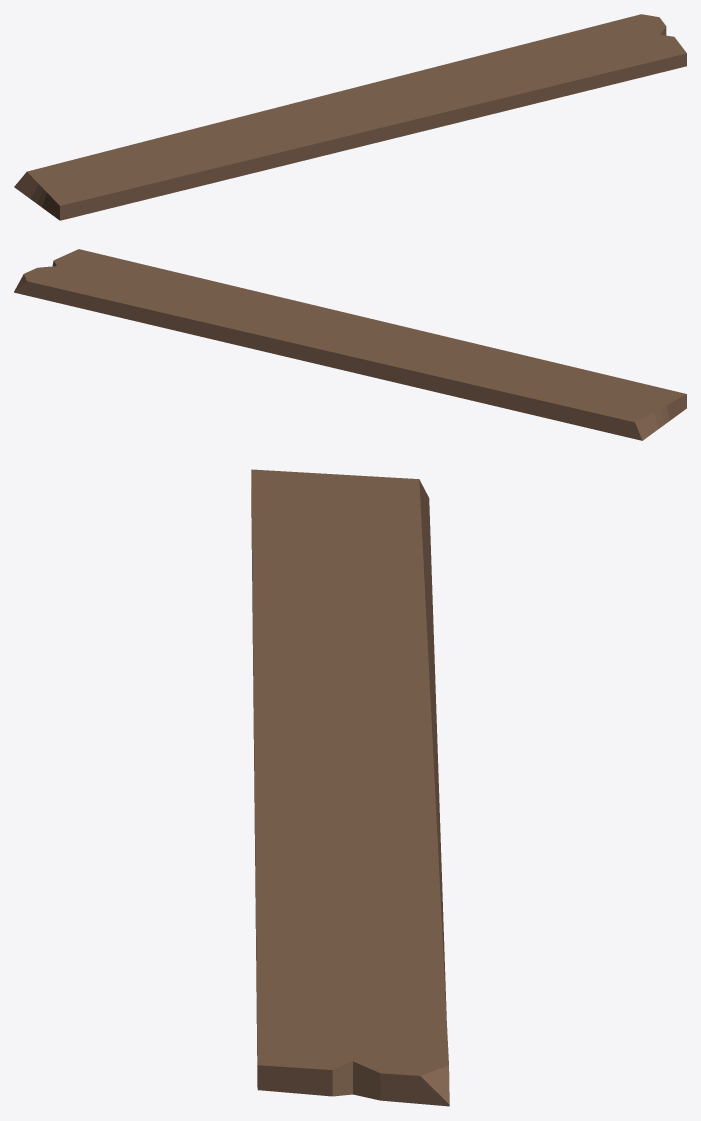
File: Done_Wood_Plank_A.glb
3 renders of one model, top to bottom at view 1: azimuth 30°, elevation 25°; view 2: azimuth 150°, elevation 25°; view 3: azimuth 270°, elevation 25°, orthographic. The views are drawn at different scales.
Visible parts, largest first — view 1: Wood Plank A; view 2: Wood Plank A; view 3: Wood Plank A.
Part boxes in pixels (<box>): Wood Plank A: <box>14,14,686,220</box>; Wood Plank A: <box>14,249,686,440</box>; Wood Plank A: <box>251,469,449,1106</box>.
Bounding box in the file's own units: 5.21 × 0.1143 × 0.718.
